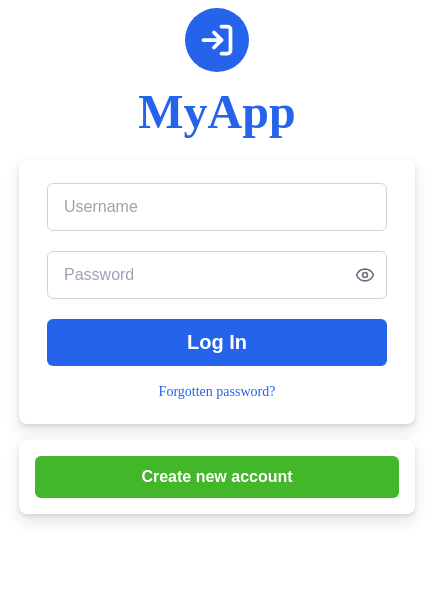
Test: LoginCard Component › displays error message on API failure
Step 1. Type "wronguser" into the field with placeholder "Username" → [217, 207], box [47,183,387,231]
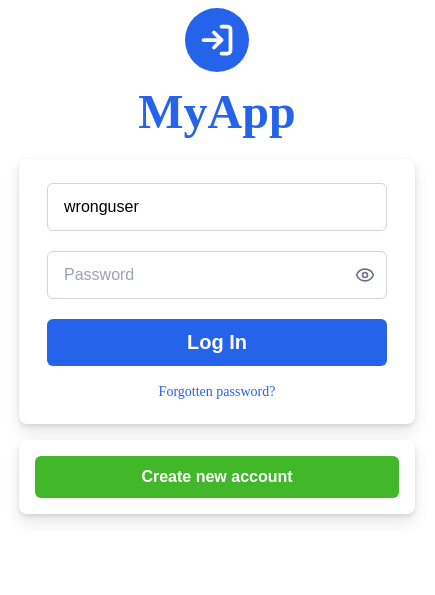
Step 2. Type "wrongpass" into the password field with placeholder "Password" → [217, 275], box [47,251,387,299]
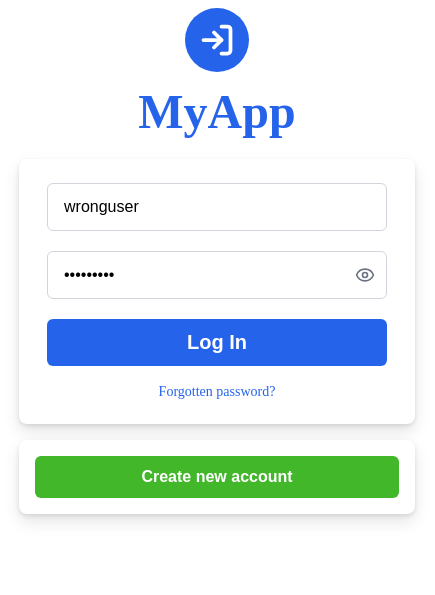
Step 3. Click the button "Log In" → [217, 342], box [47,319,387,366]
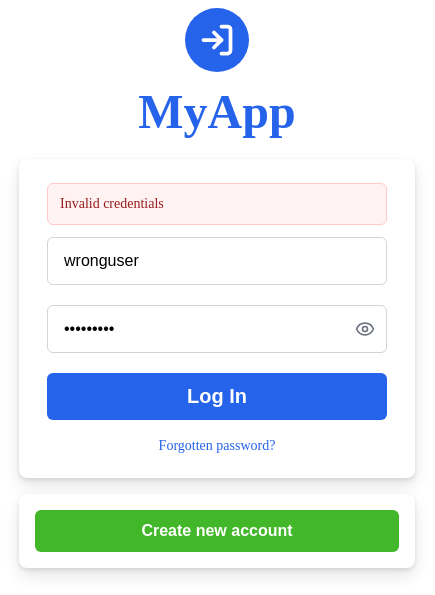
Now the text "Invalid credentials" is shown, box [47,183,387,225]
